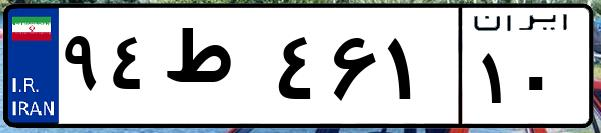0: (525, 38, 570, 115)
1: (385, 28, 445, 110), (475, 38, 525, 113)
4: (270, 28, 330, 110), (110, 28, 158, 98)
6: (330, 28, 385, 110)
9: (57, 26, 110, 100)
ط: (158, 20, 270, 120)
